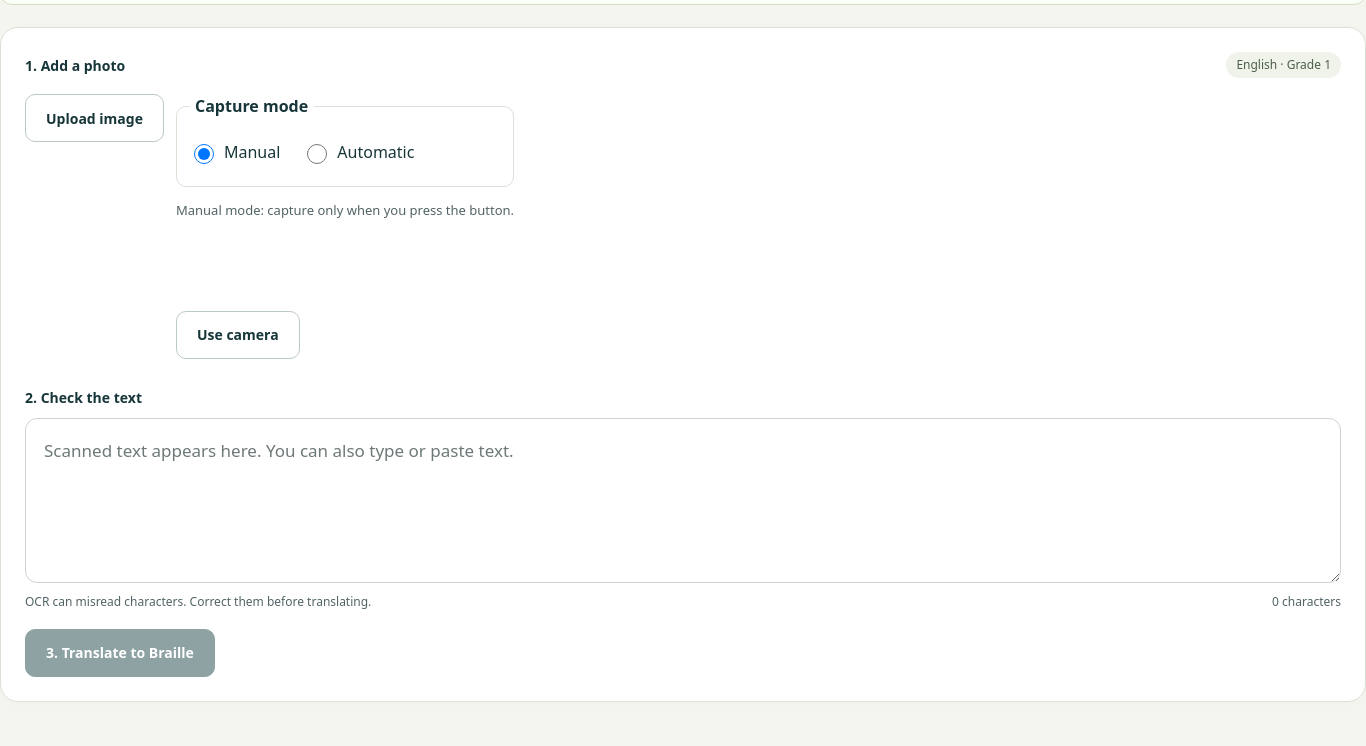
Test: CameraPanel › shows API failures
(page scrolled)
Type "hi" into the text box labelled "2. Check the text".
click(683, 500); type("hi")  # box [25,418,1341,583]
(page scrolled)
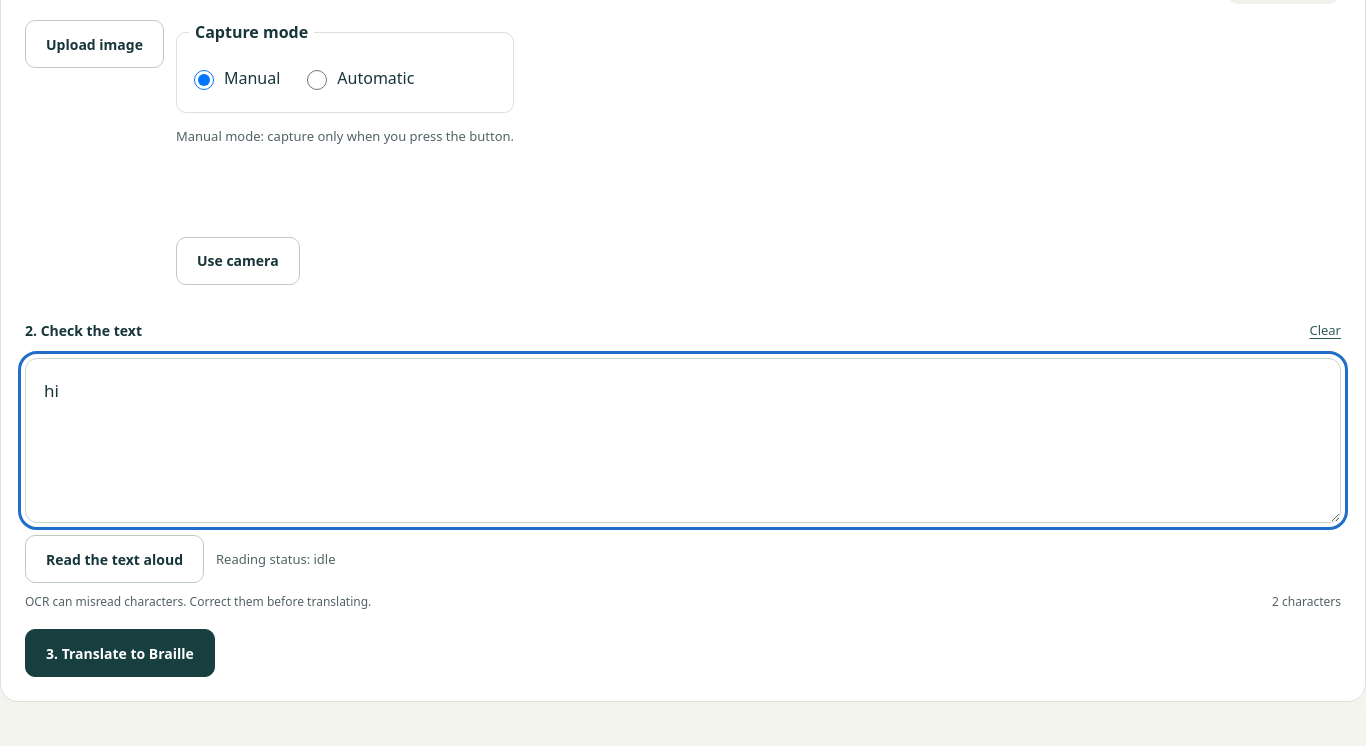
Click the button "3. Translate to Braille".
click(120, 654)  # box [25,630,215,678]
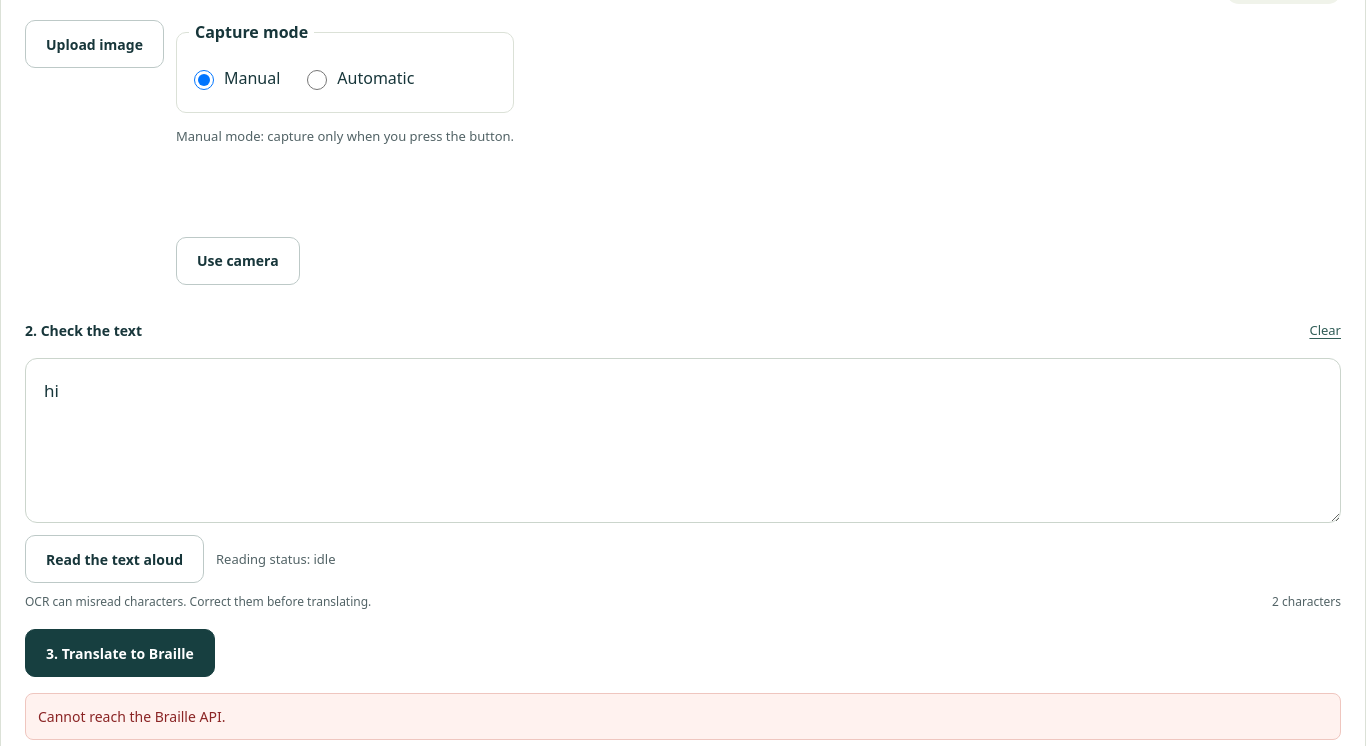
Expected: the message "Cannot reach the Braille API." is shown, [25,694,1341,740]
